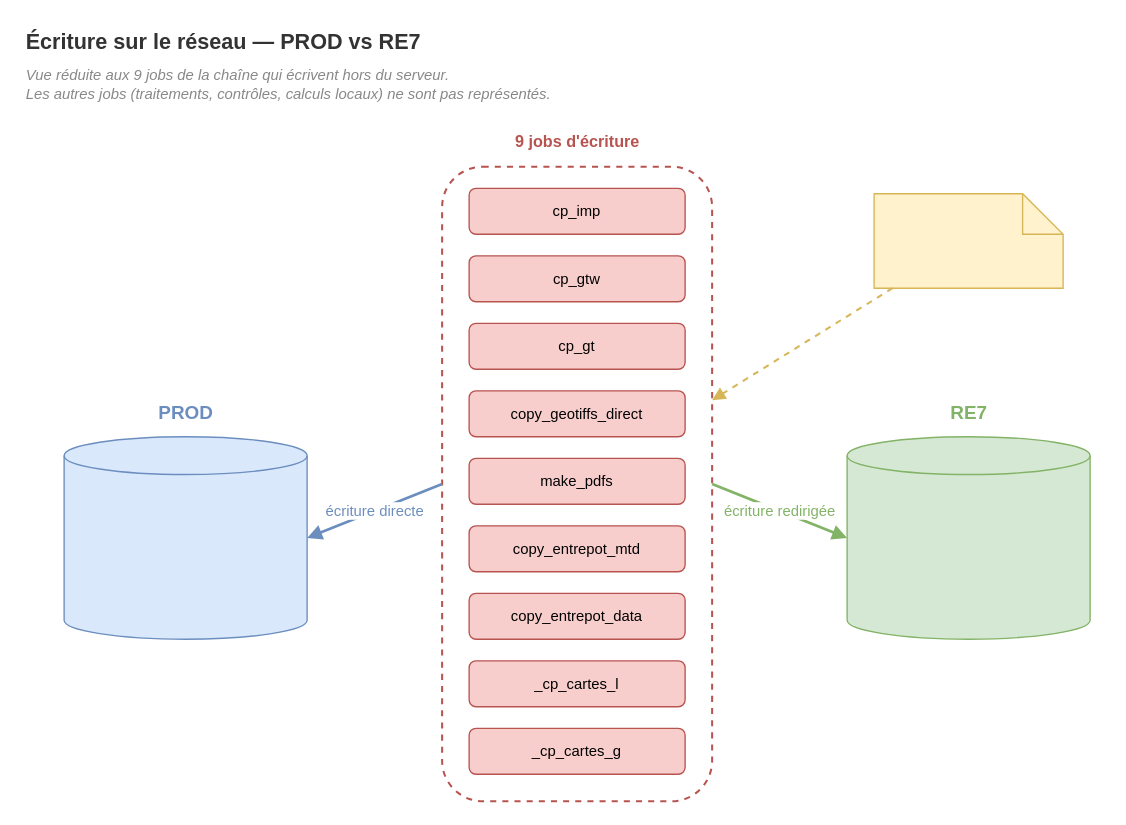
Image size: 1126x825. Some labels were removed from this diagram. The box of each missing label's shape, as (x1, y1, x2, y2) in pixels:
config.cfg redirige les chemins vers D: (local): (873, 192, 1063, 288)
DISQUE LOCAL D: réplique de l'arborescence de diffusion: (846, 435, 1090, 639)
PARTAGES RÉSEAU impression, entrepôt, GEOTIFF, cartes L/G, publication en ligne: (63, 435, 307, 639)
